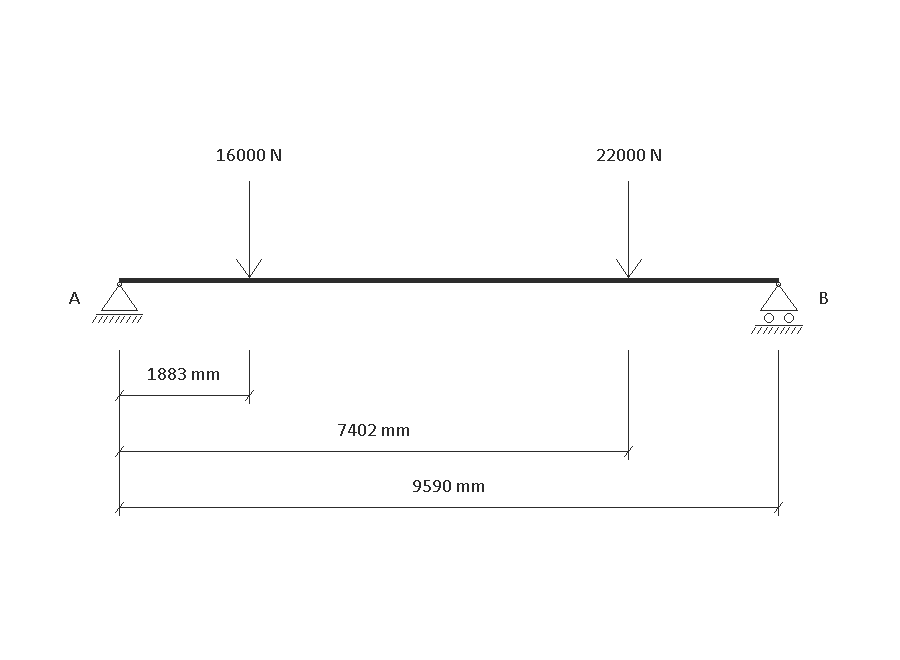pin_support: (92, 282, 143, 323)
point_load: (236, 181, 262, 278), (616, 181, 642, 278)
roller_support: (751, 282, 803, 334)
